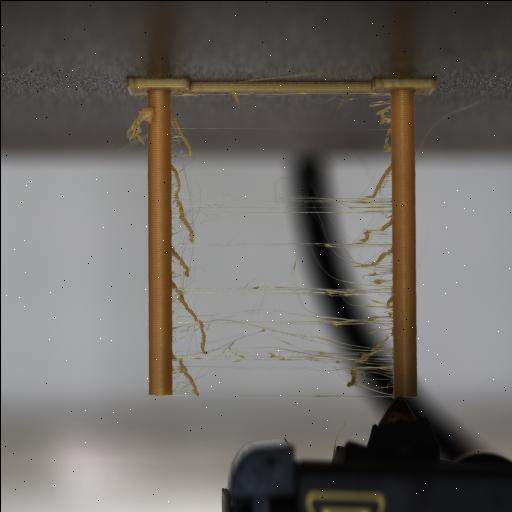stringing: (172, 160, 392, 396), (366, 93, 392, 160), (170, 104, 195, 160), (125, 102, 152, 142)
